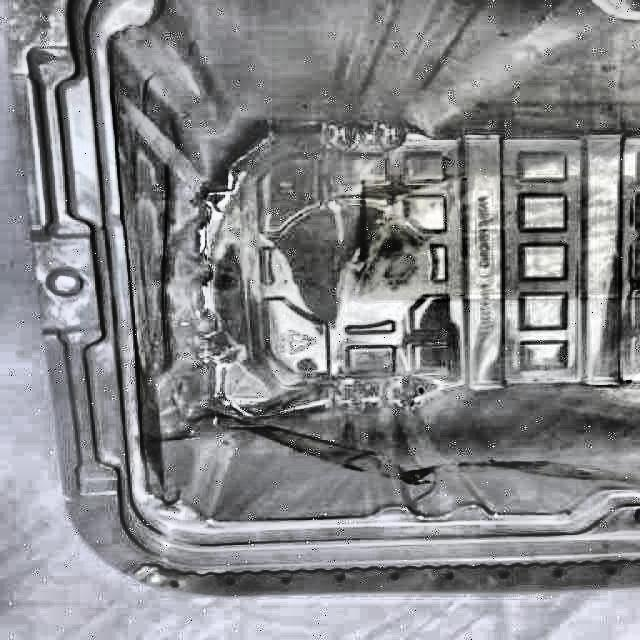plastic: (2, 0, 640, 592)
